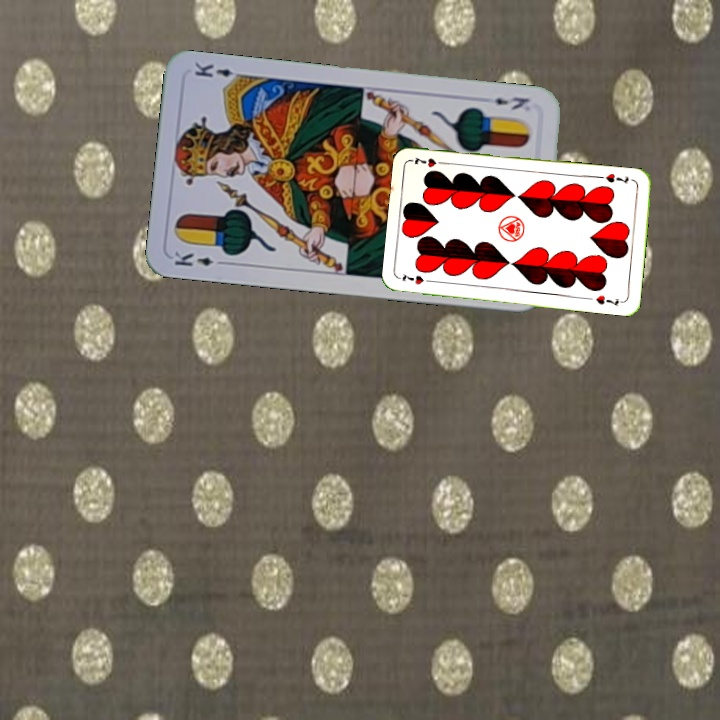EK: (170, 248, 229, 269), (491, 92, 532, 113)
H7: (398, 270, 437, 287), (601, 169, 631, 186)
